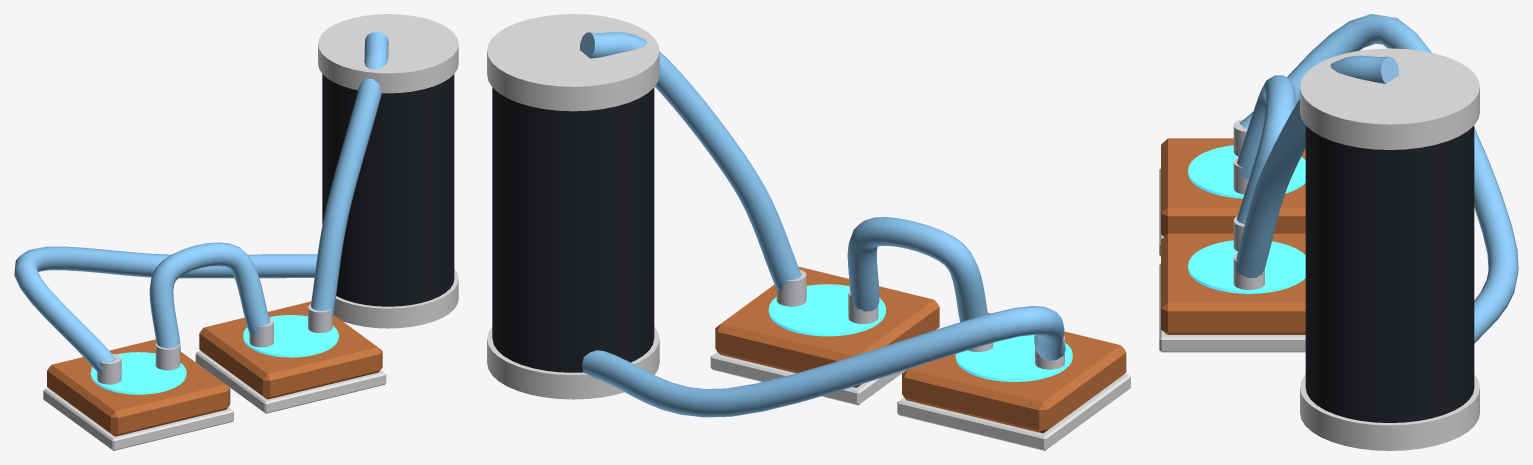
The model's file is hw_cool_custom_loop.glb.
3 renders of one model, left to right at view 1: azimuth 30°, elevation 25°; view 2: azimuth 150°, elevation 25°; view 3: azimuth 270°, elevation 25°, orthographic. The views are drawn at different scales.
Visible parts, largest first — view 1: Body, Flow_3, Flow_2, Flow_1; view 2: Body, Flow_3, Flow_2, Flow_1; view 3: Body, Flow_3, Flow_2, Flow_1.
Boxes of the visible parts, left/top/right/bottom form: Body: left=43, top=14, right=458, bottom=450; Flow_3: left=14, top=246, right=317, bottom=373; Flow_2: left=311, top=32, right=388, bottom=316; Flow_1: left=149, top=242, right=269, bottom=351; Body: left=487, top=14, right=1130, bottom=450; Flow_3: left=582, top=306, right=1065, bottom=417; Flow_2: left=579, top=32, right=801, bottom=290; Flow_1: left=847, top=217, right=987, bottom=322; Body: left=1159, top=48, right=1479, bottom=450; Flow_3: left=1240, top=14, right=1518, bottom=343; Flow_2: left=1235, top=55, right=1399, bottom=277; Flow_1: left=1236, top=75, right=1295, bottom=224.
Bounding box in the file's own units: 0.2318 × 0.1361 × 0.1277.
